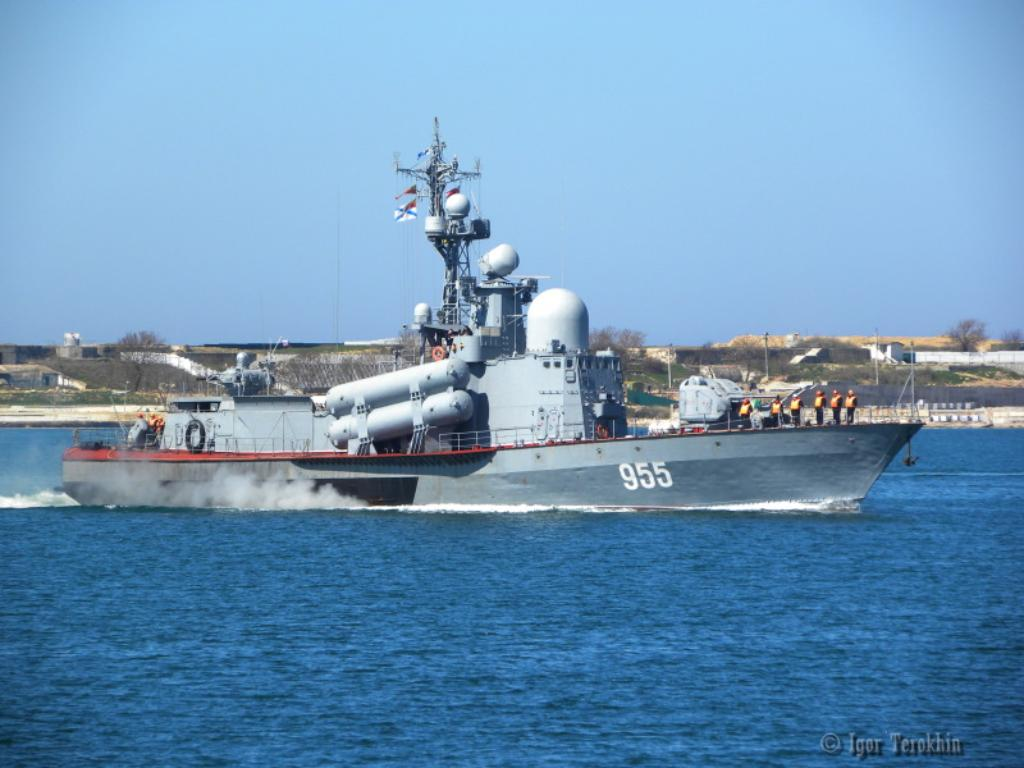Warship: (59, 110, 927, 514)
